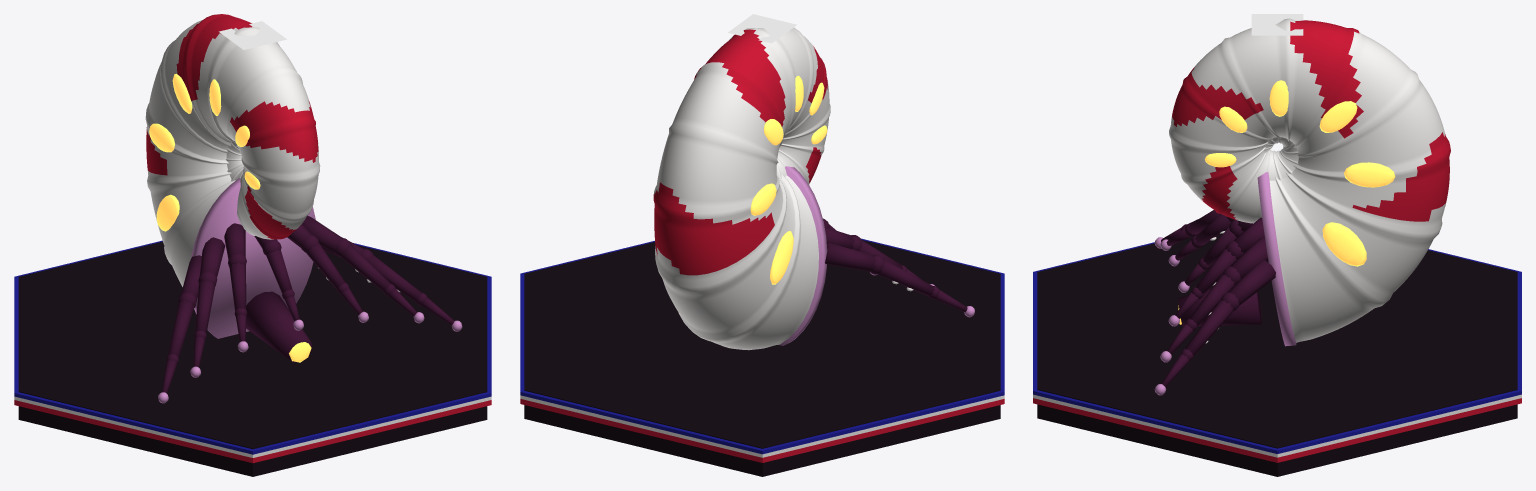
The model's file is Grix_Rafinerija.fbx.
3 renders of one model, left to right at view 1: azimuth 30°, elevation 25°; view 2: azimuth 150°, elevation 25°; view 3: azimuth 270°, elevation 25°, orthographic. The views are drawn at different scales.
Parts seen in each view (by area): view 1: Body, Flag; view 2: Body, Flag; view 3: Body, Flag.
Boxes of the visible parts, x1,y1,x2,y2 form: Body: [14, 14, 491, 476]; Flag: [219, 21, 286, 49]; Body: [520, 27, 1004, 476]; Flag: [728, 14, 796, 43]; Body: [1033, 18, 1521, 476]; Flag: [1251, 14, 1303, 35].
Size of the model in its own units: 17.5 by 11.57 by 15.16.
